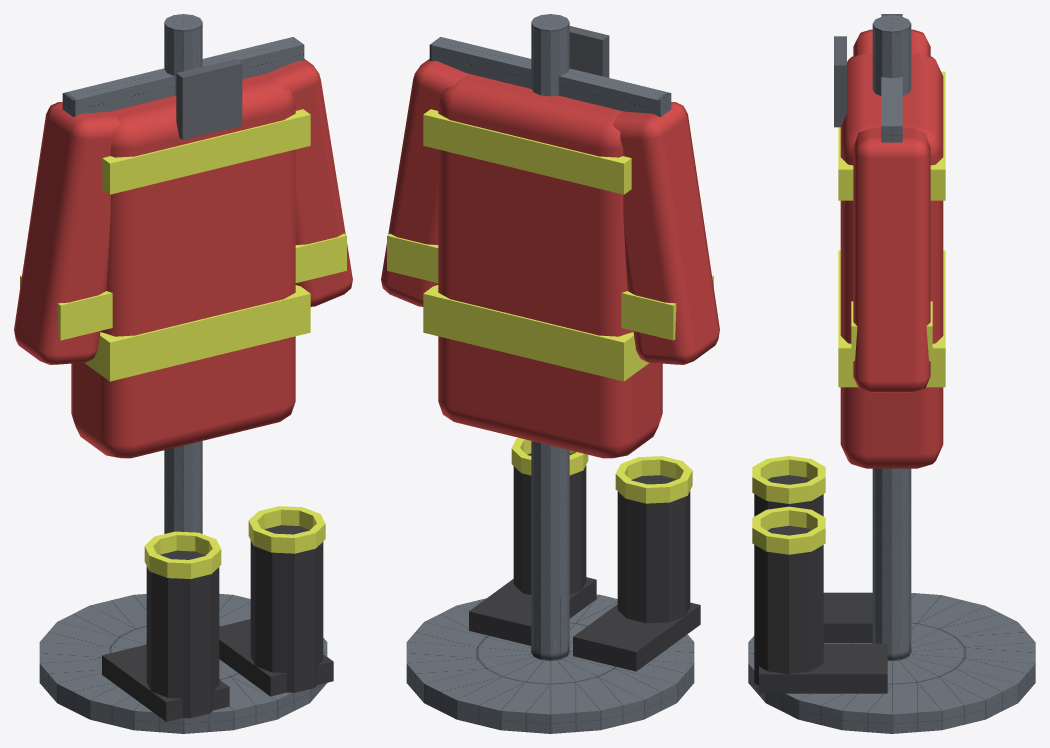
The model's file is fire-and-emergency-services-turnout-gear-stand-f96cbbec__29915.glb.
The picture shows the model from 3 angles, left to right: view 1: azimuth 30°, elevation 25°; view 2: azimuth 150°, elevation 25°; view 3: azimuth 270°, elevation 25°; orthographic projection.
Visible parts, largest first — view 1: turnout-gear-stand; view 2: turnout-gear-stand; view 3: turnout-gear-stand.
Part boxes in pixels (x1,y1,x2,y2): turnout-gear-stand: (14,14,352,733); turnout-gear-stand: (381,14,719,733); turnout-gear-stand: (748,14,1035,733).
Bounding box in the file's own units: 0.844 × 1.67 × 0.6697.
5 materials, 1 textured.
